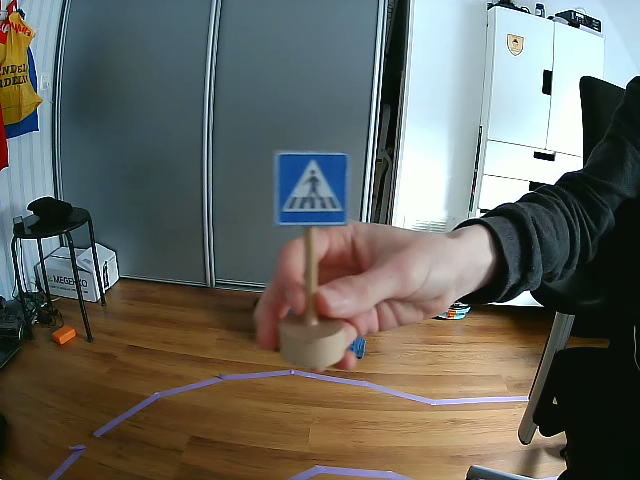zebrapad: (274, 151, 349, 227)
